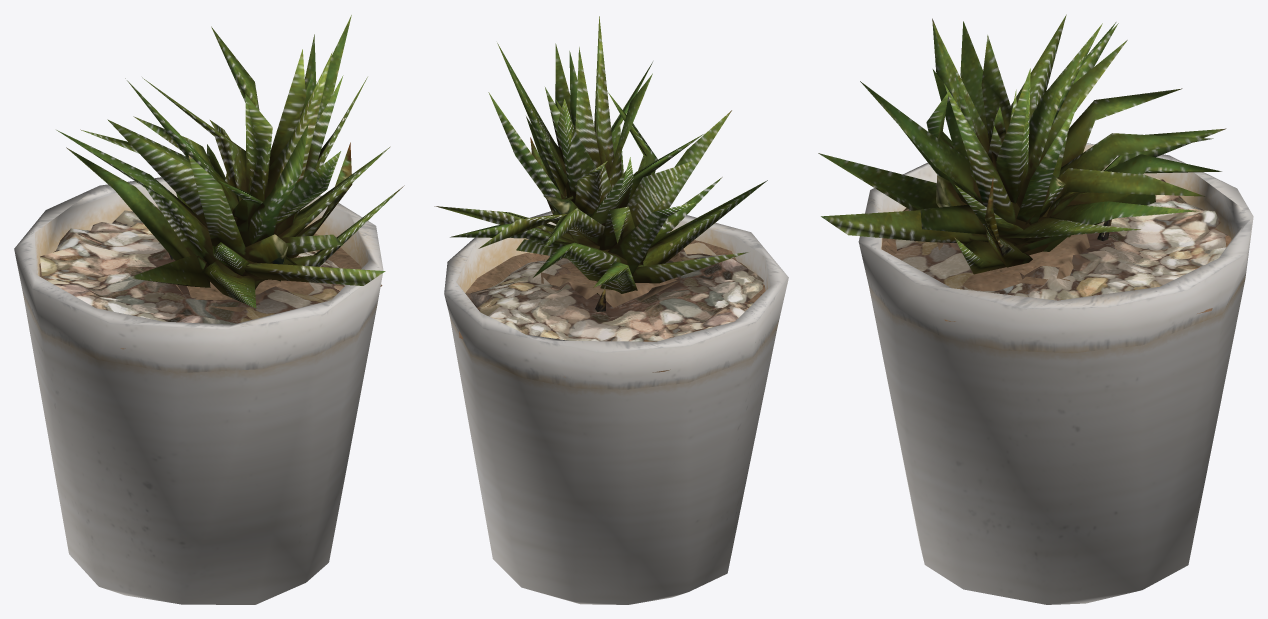
The model's file is potted_plant_04_1k_LOD2.fbx.
The picture shows the model from 3 angles, left to right: view 1: azimuth 30°, elevation 25°; view 2: azimuth 150°, elevation 25°; view 3: azimuth 270°, elevation 25°; orthographic projection. The views are drawn at different scales.
Parts seen in each view (by area): view 1: potted_plant_04_pot, potted_plant_04_plant, potted_plant_04_ground, potted_plant_04_dirt; view 2: potted_plant_04_pot, potted_plant_04_plant, potted_plant_04_ground, potted_plant_04_dirt; view 3: potted_plant_04_pot, potted_plant_04_plant, potted_plant_04_ground, potted_plant_04_dirt.
Part boxes in pixels (left/top/right/bottom): potted_plant_04_pot: left=14, top=177, right=383, bottom=604; potted_plant_04_plant: left=56, top=15, right=404, bottom=308; potted_plant_04_ground: left=40, top=206, right=345, bottom=324; potted_plant_04_dirt: left=39, top=233, right=382, bottom=349; potted_plant_04_pot: left=444, top=211, right=788, bottom=604; potted_plant_04_plant: left=434, top=16, right=767, bottom=311; potted_plant_04_ground: left=465, top=249, right=763, bottom=341; potted_plant_04_dirt: left=459, top=240, right=765, bottom=377; potted_plant_04_pot: left=858, top=143, right=1253, bottom=604; potted_plant_04_plant: left=818, top=14, right=1226, bottom=274; potted_plant_04_ground: left=894, top=168, right=1227, bottom=300; potted_plant_04_dirt: left=881, top=211, right=1231, bottom=321.
Size of the model in its own units: 16.85 by 26.69 by 18.39.
